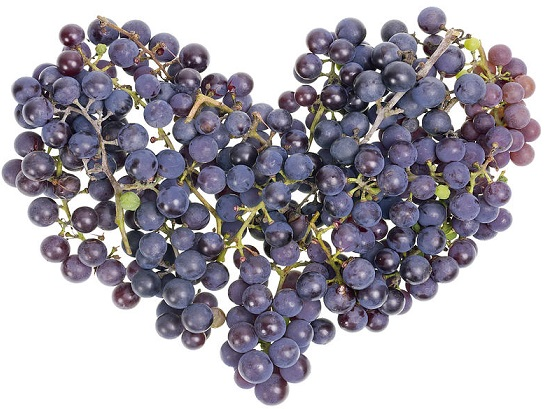Black grapes: (60, 76, 252, 284), (326, 35, 479, 252), (180, 186, 297, 362)
